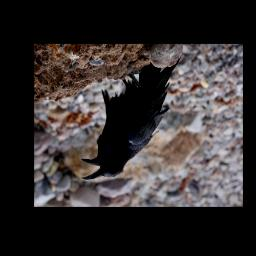Crow: (81, 56, 182, 179)
